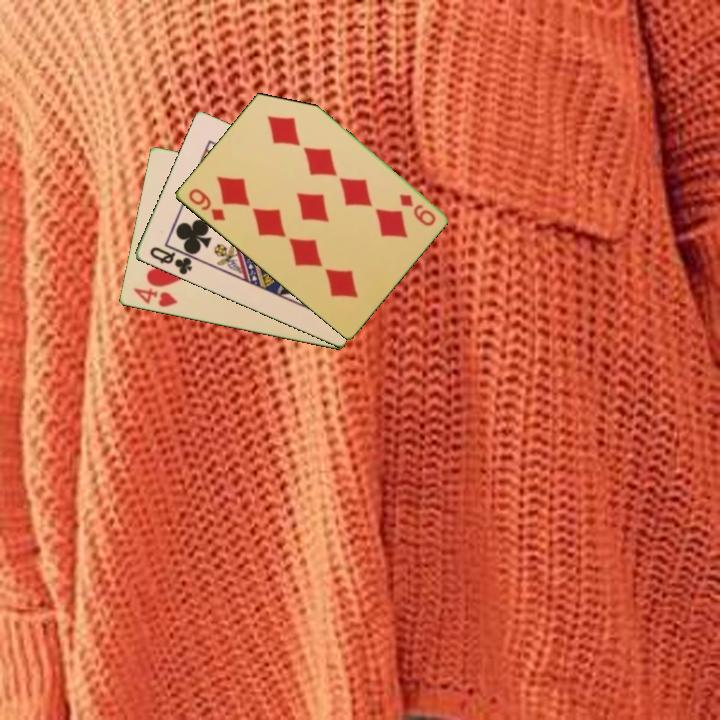4h: (130, 285, 180, 310)
9d: (184, 185, 228, 224), (395, 190, 438, 229)
Qc: (146, 243, 199, 278)
